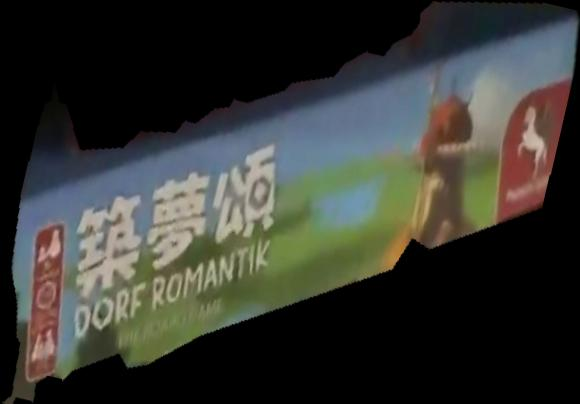flat: (1, 1, 580, 404)
